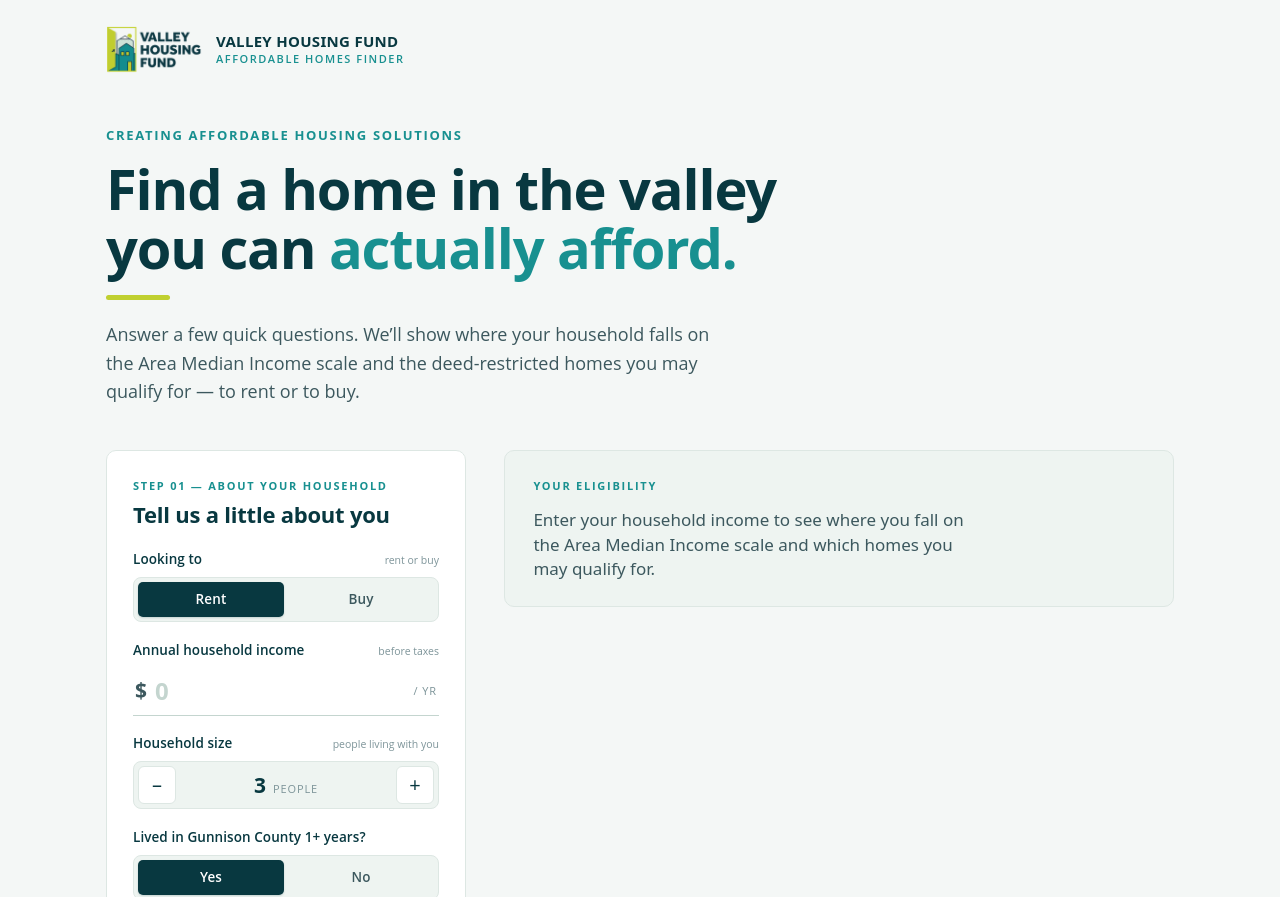
Scenario: Calculator form › shows a loading indicator while the request is in flight
The image size is (1280, 897).
Type "60000" into the field labelled "Annual household income before taxes" at (280, 690), box [155,674,406,707]
(page scrolled)
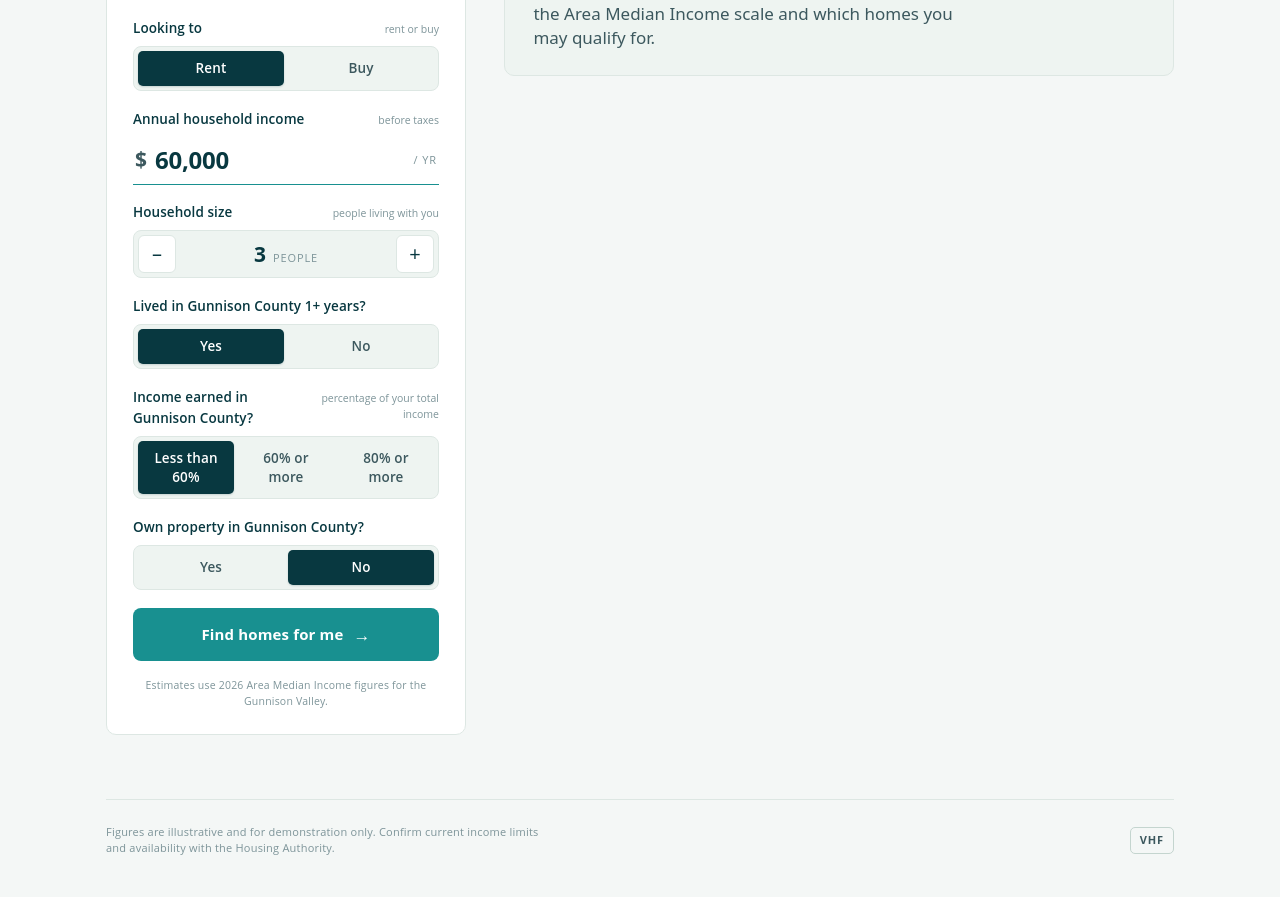
Click the button "Find homes for me →" at (286, 634), box [133,608,439,661]
(page scrolled)
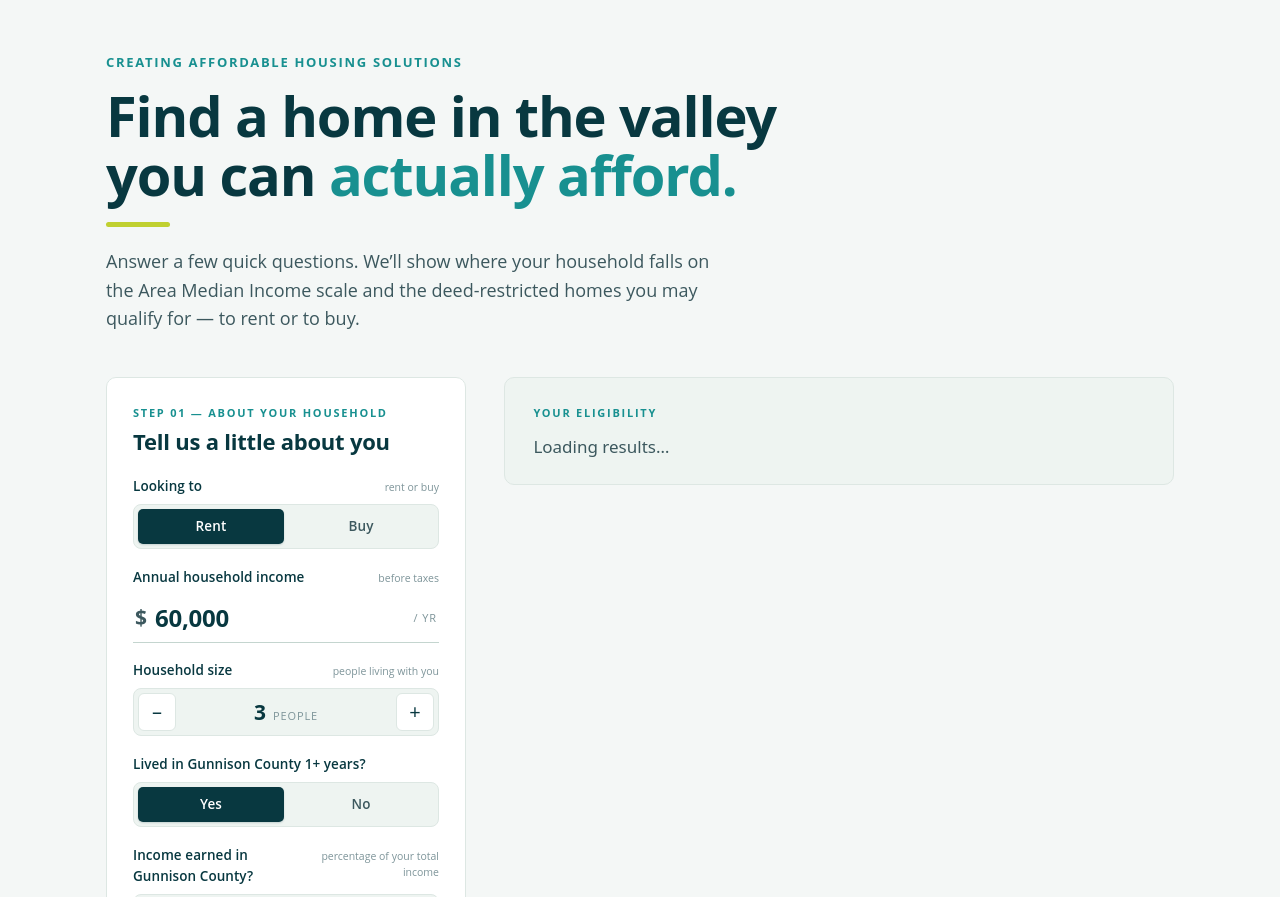
Check: the text "Loading results…" is shown, box [533,435,669,458]
